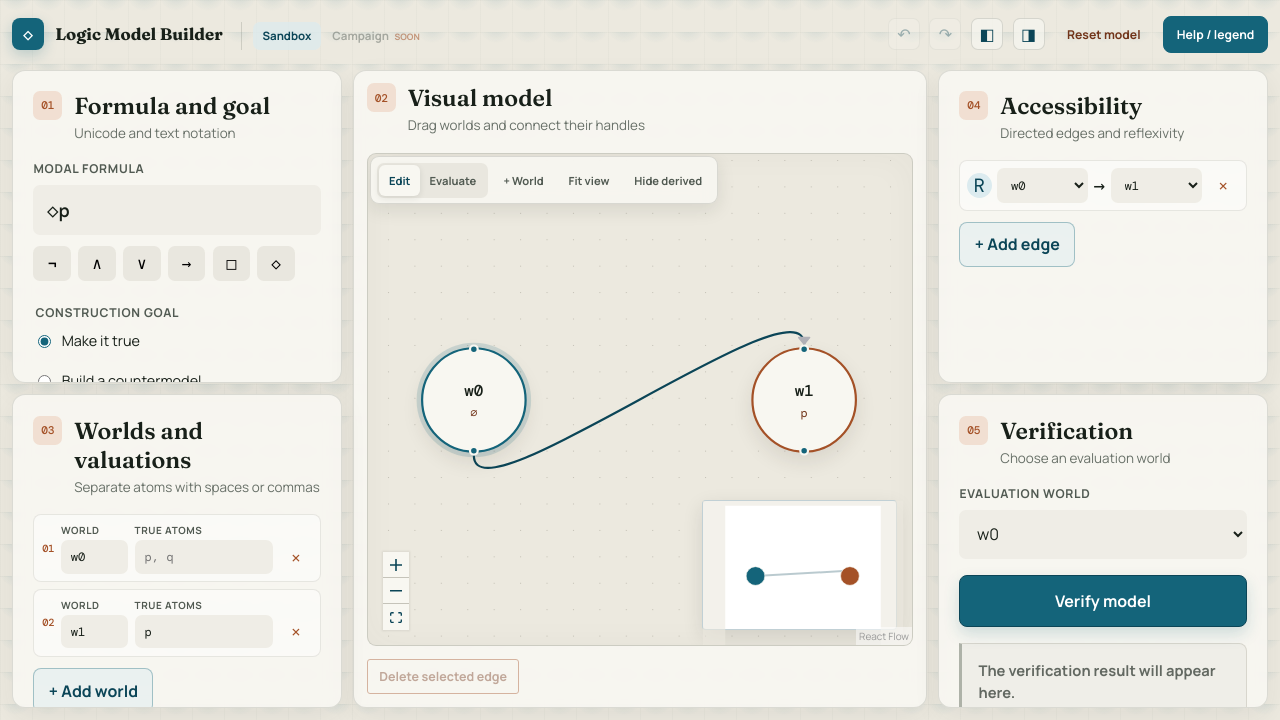
Scenario: sandbox user interface › locks construction controls in Evaluate mode
Click the button "Evaluate": point(453, 180) top-left (420, 165), bottom-right (486, 196)
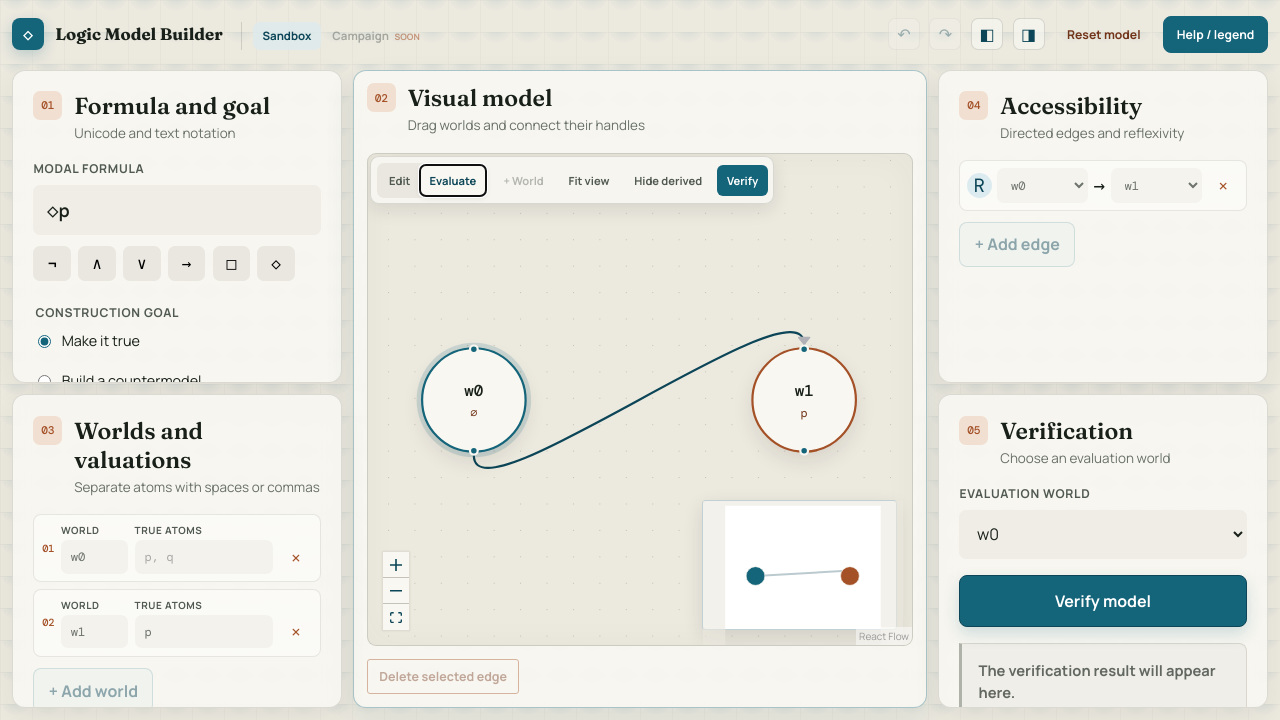
Expected: the button "+ Add world" is disabled, top-left (34, 668), bottom-right (154, 708)
Expected: the 1st field labelled "World" is disabled, top-left (61, 540), bottom-right (128, 574)
Expected: the 2nd field labelled "World" is disabled, top-left (61, 615), bottom-right (128, 648)
